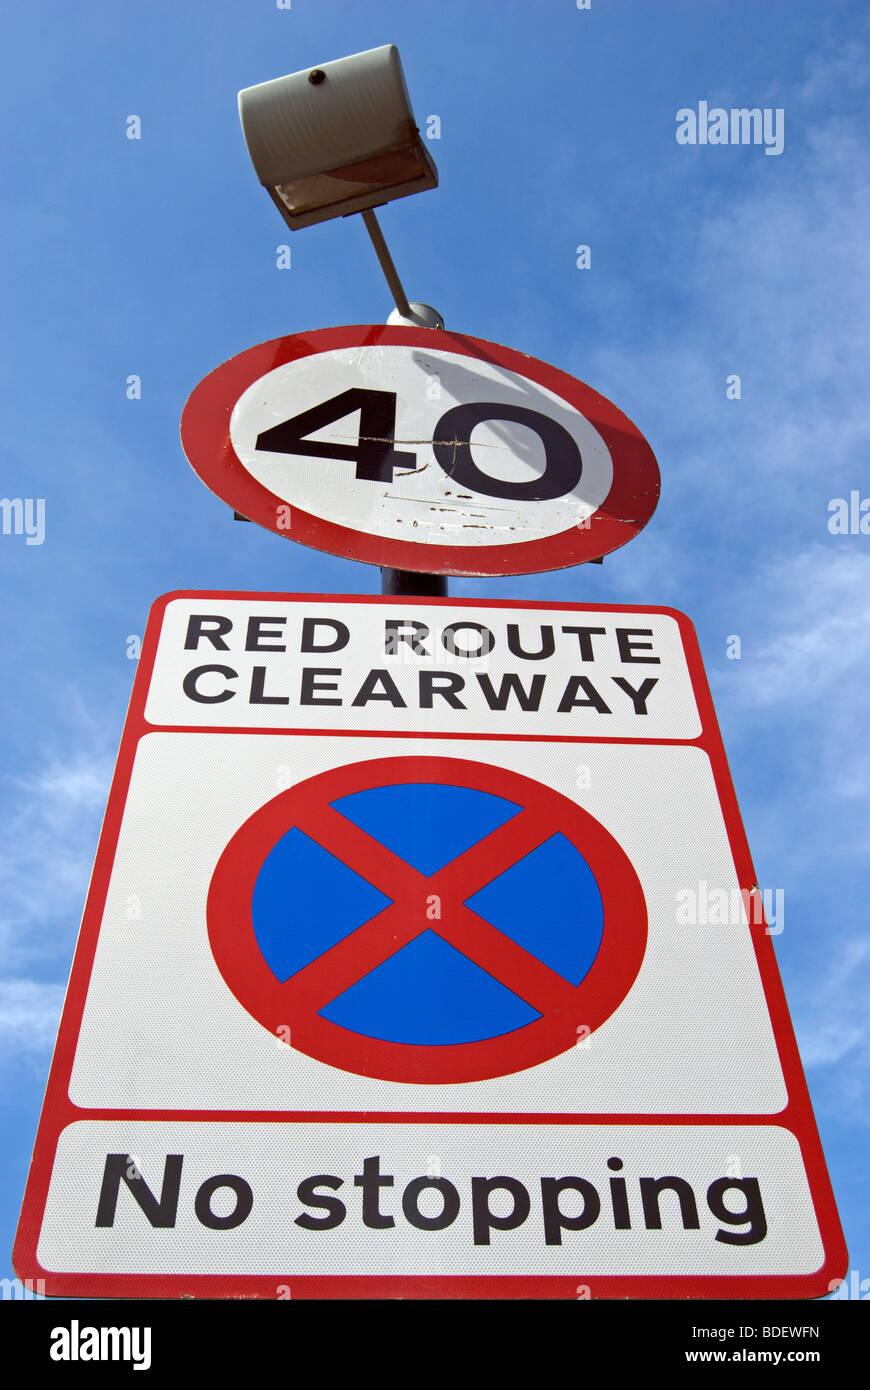no-stop: (200, 752, 654, 1090)
speed-limit: (181, 319, 662, 580)
